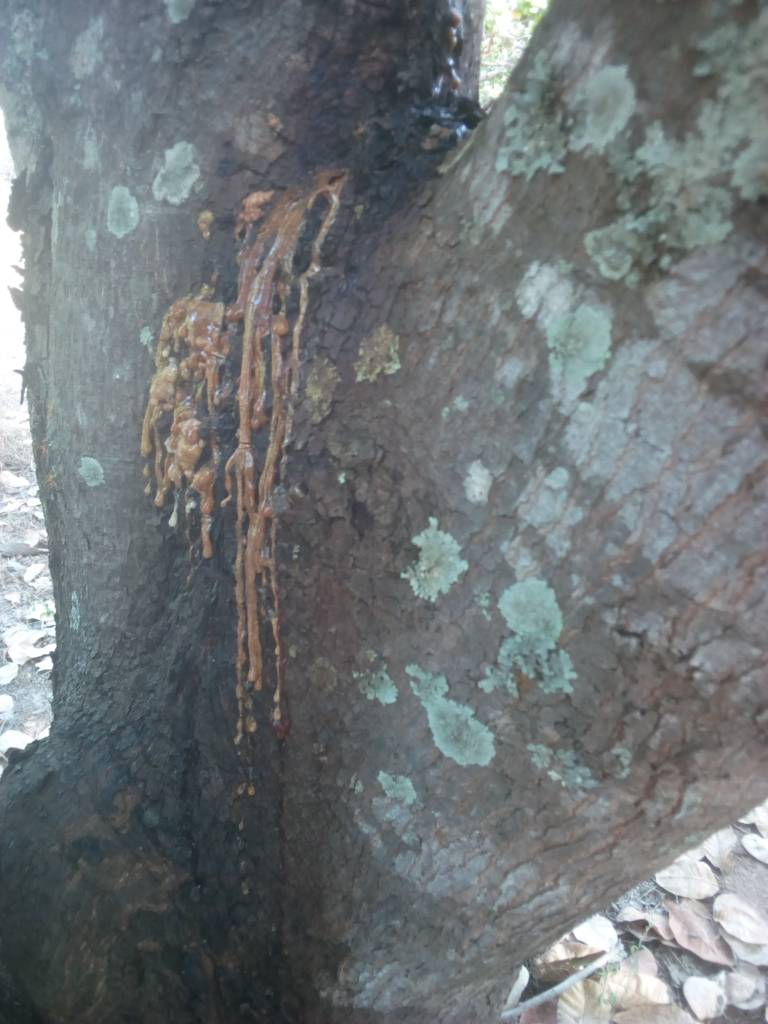Gommose: (108, 110, 435, 992)
